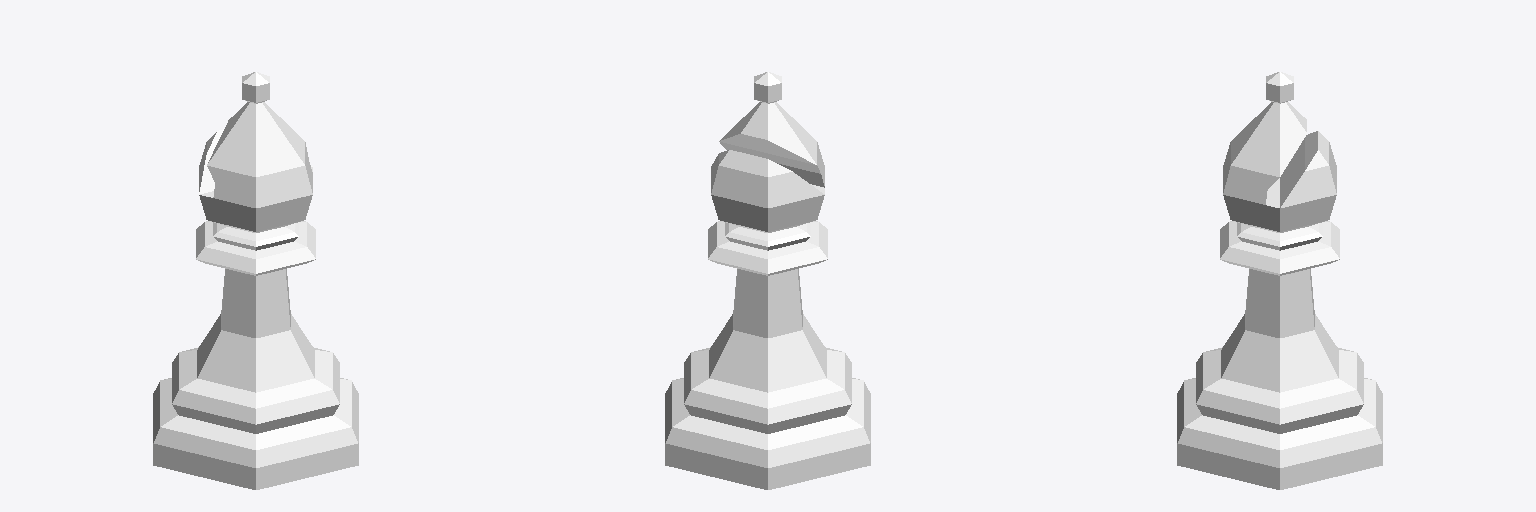
Rendered from bishop_white.obj.
3 views of the same model, side by side, from view 1: azimuth 30°, elevation 25°; view 2: azimuth 150°, elevation 25°; view 3: azimuth 270°, elevation 25° (orthographic).
Parts seen in each view (by area): view 1: Bishop.002; view 2: Bishop.002; view 3: Bishop.002.
Part boxes in pixels (bbox=[...]): Bishop.002: bbox=[153, 72, 358, 489]; Bishop.002: bbox=[665, 72, 870, 489]; Bishop.002: bbox=[1177, 72, 1382, 489].
Size of the model in its own units: 0.8763 by 1.51 by 0.7589.